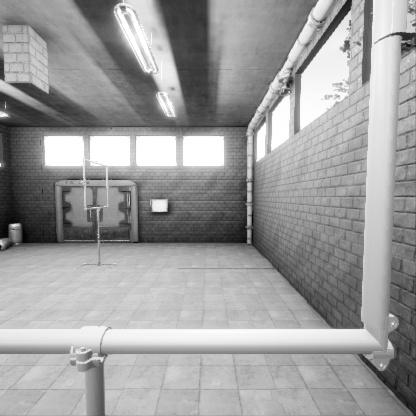gate: (82, 208, 108, 260)
